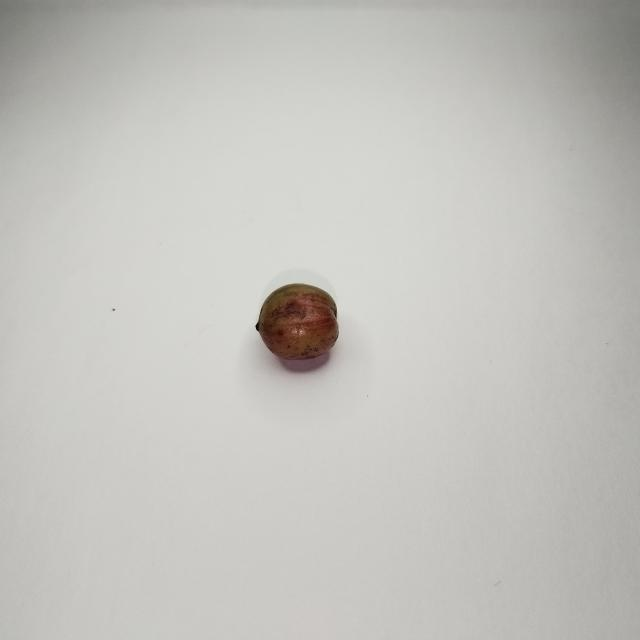Sano: (256, 283, 339, 361)
